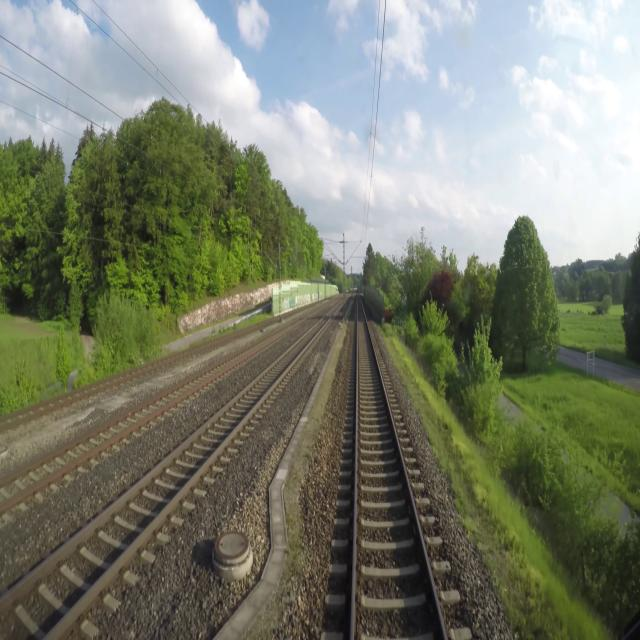rail-track: (0, 305, 338, 639), (0, 329, 285, 505), (355, 293, 442, 639)
